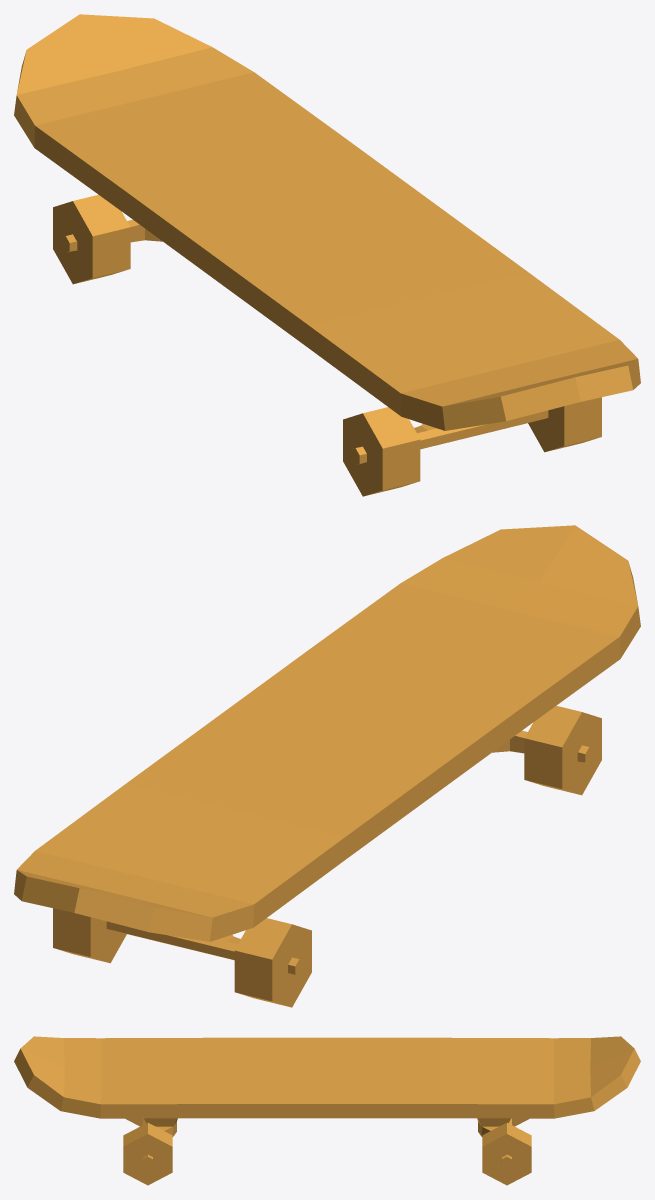
File: sport-skateboard.glb
The picture shows the model from 3 angles, top to bottom: view 1: azimuth 30°, elevation 25°; view 2: azimuth 150°, elevation 25°; view 3: azimuth 270°, elevation 25°; orthographic projection. The views are drawn at different scales.
Parts seen in each view (by area): view 1: skateboard; view 2: skateboard; view 3: skateboard.
Boxes of the visible parts, x1,y1,x2,y2 form: skateboard: [14, 14, 640, 496]; skateboard: [14, 525, 640, 1007]; skateboard: [14, 1036, 640, 1185].
Bounding box in the file's own units: 0.2345 × 0.1611 × 0.88.
